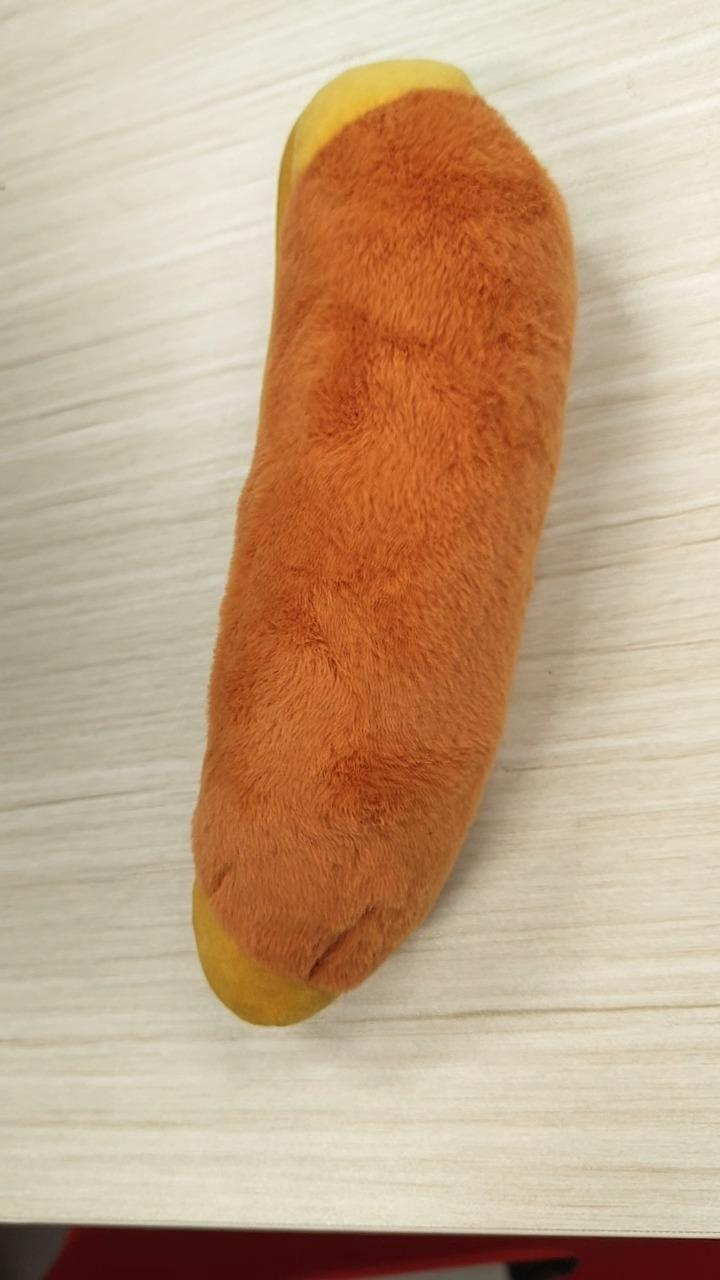hotdog: (189, 55, 578, 1027)
